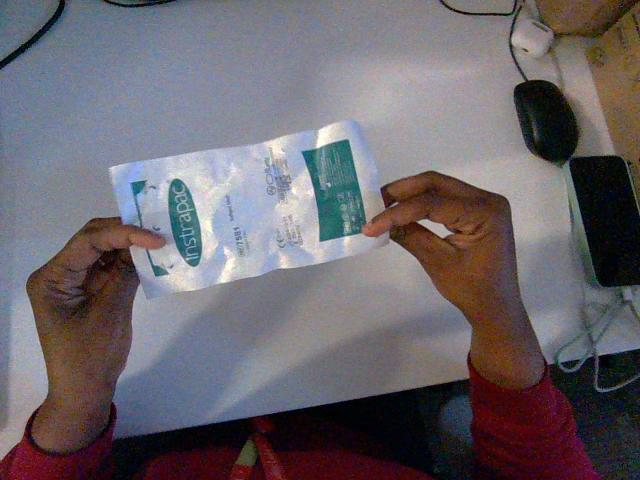gallipot: (110, 121, 387, 297)
